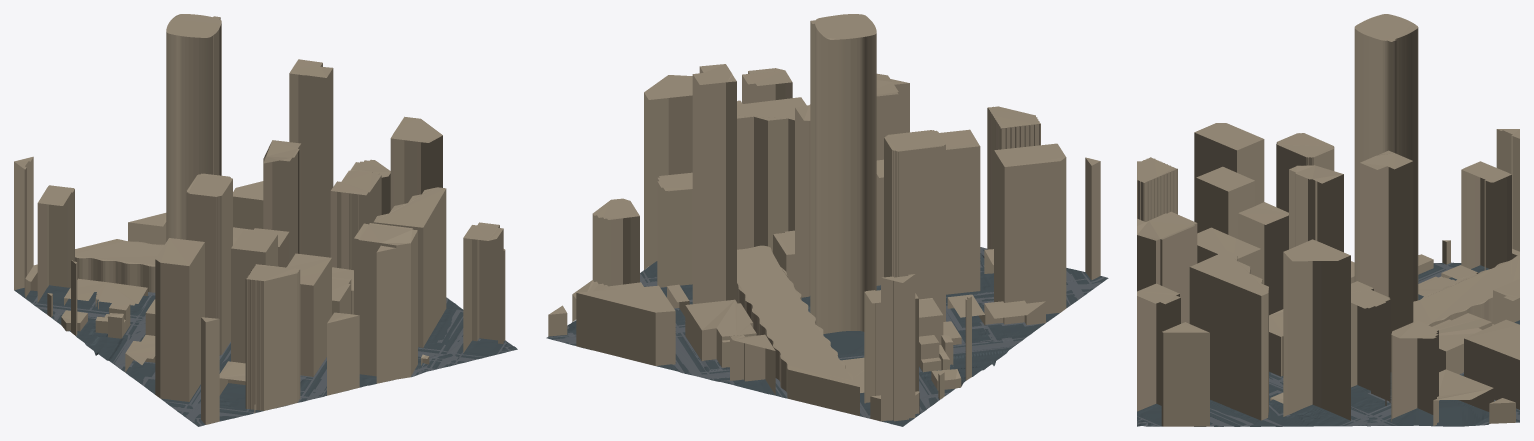
The model's file is epsg26910-1440-10892.lod1-2m.glb.
3 renders of one model, left to right at view 1: azimuth 30°, elevation 25°; view 2: azimuth 150°, elevation 25°; view 3: azimuth 270°, elevation 25°, orthographic. The views are drawn at different scales.
Parts seen in each view (by area): view 1: epsg26910-1440-10892-lod1; view 2: epsg26910-1440-10892-lod1; view 3: epsg26910-1440-10892-lod1.
Boxes of the visible parts, left/top/right/bottom form: epsg26910-1440-10892-lod1: left=14, top=14, right=517, bottom=426; epsg26910-1440-10892-lod1: left=546, top=14, right=1108, bottom=426; epsg26910-1440-10892-lod1: left=1137, top=14, right=1519, bottom=426.
Bounding box in the file's own units: 384 × 333 × 384.
